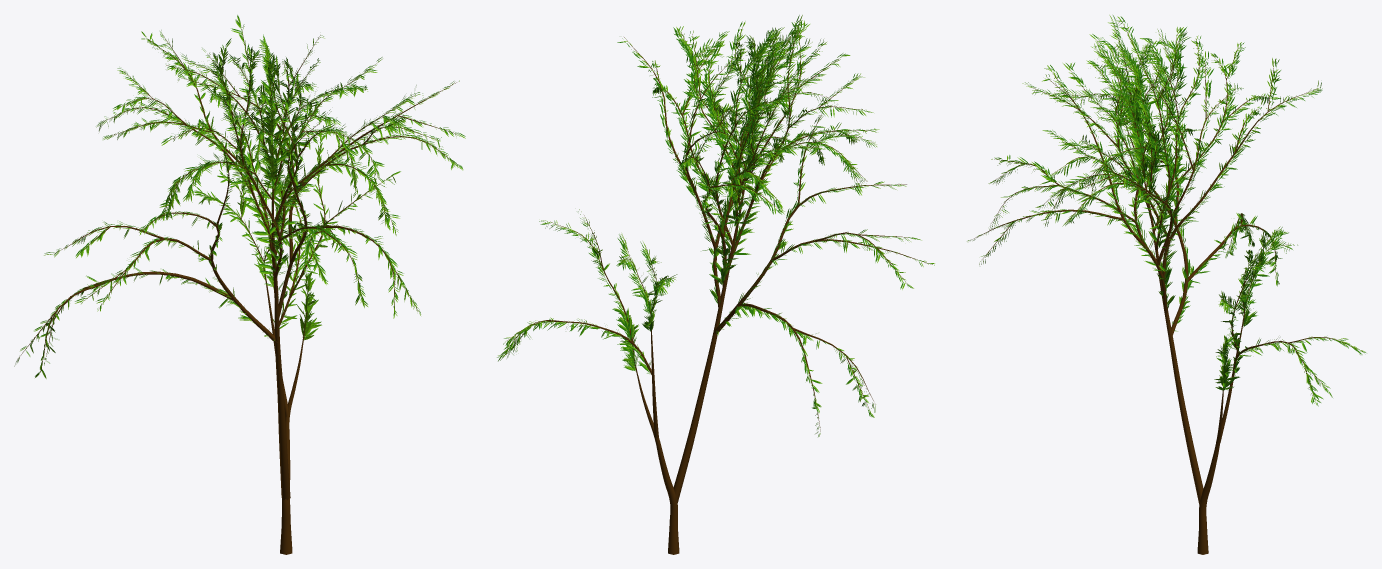
Rendered from jacaranda sudamericana.glb.
The picture shows the model from 3 angles, left to right: view 1: azimuth 30°, elevation 25°; view 2: azimuth 150°, elevation 25°; view 3: azimuth 270°, elevation 25°; orthographic projection. The views are drawn at different scales.
Parts seen in each view (by area): view 1: leaves, leaves.001, tree; view 2: leaves.001, leaves, tree; view 3: leaves.001, leaves, tree.
Boxes of the visible parts, x1,y1,x2,y2 form: leaves: [17, 16, 465, 378]; leaves.001: [16, 15, 465, 377]; tree: [17, 27, 459, 554]; leaves.001: [497, 15, 933, 436]; leaves: [498, 15, 934, 436]; tree: [506, 22, 932, 554]; leaves.001: [968, 15, 1365, 406]; leaves: [967, 15, 1364, 404]; tree: [970, 22, 1362, 554].
Size of the model in its own units: 7.78 by 11.16 by 8.11.
